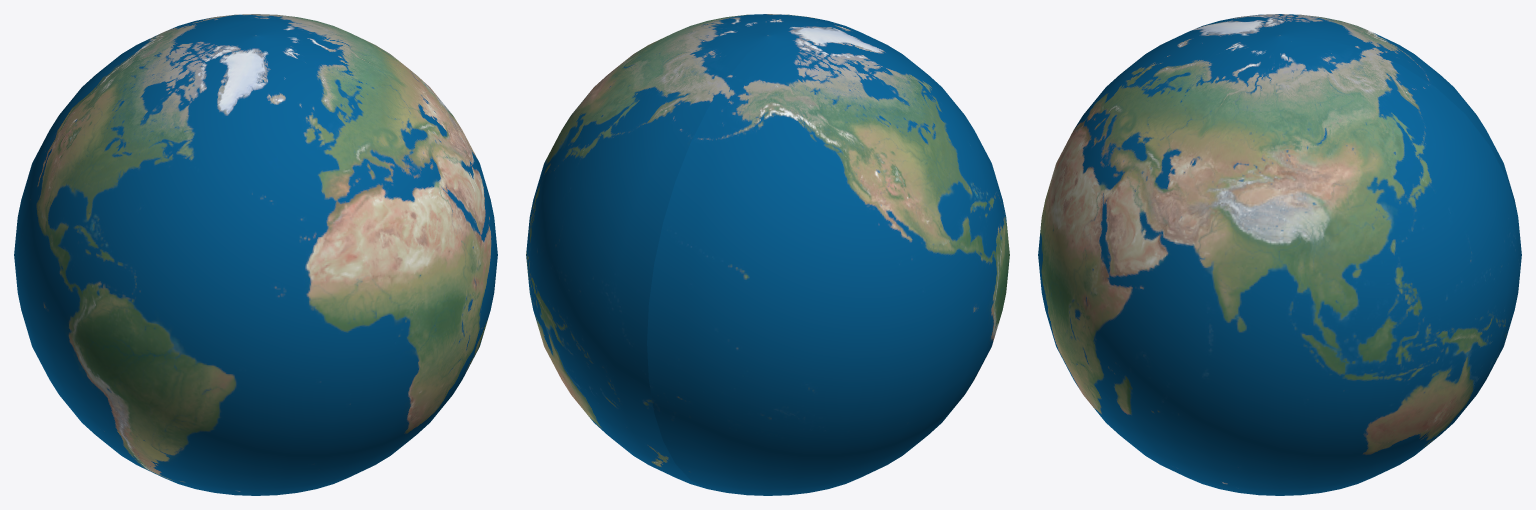
File: Earth.008.glb
The picture shows the model from 3 angles, left to right: view 1: azimuth 30°, elevation 25°; view 2: azimuth 150°, elevation 25°; view 3: azimuth 270°, elevation 25°; orthographic projection.
Visible parts, largest first — view 1: sphere; view 2: sphere; view 3: sphere.
Boxes of the visible parts, <box> form: sphere: <box>14,14,497,495</box>; sphere: <box>526,14,1009,495</box>; sphere: <box>1038,14,1521,495</box>.
Size of the model in its own units: 1.27 by 1.27 by 1.27.
1 material, 1 textured.
